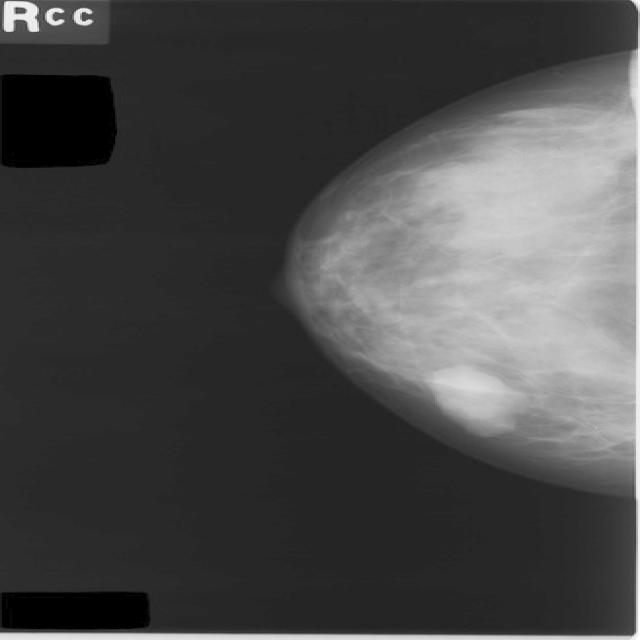tumour: (423, 364, 519, 438)
